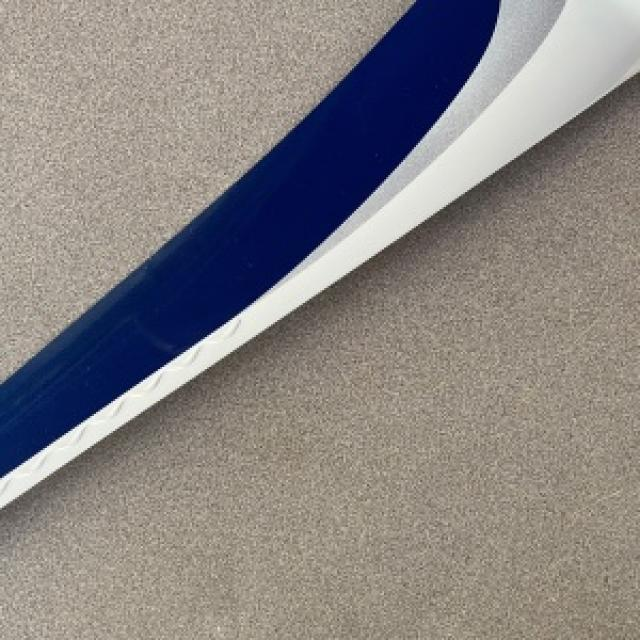healthy: (0, 75, 638, 638), (0, 0, 407, 375)
